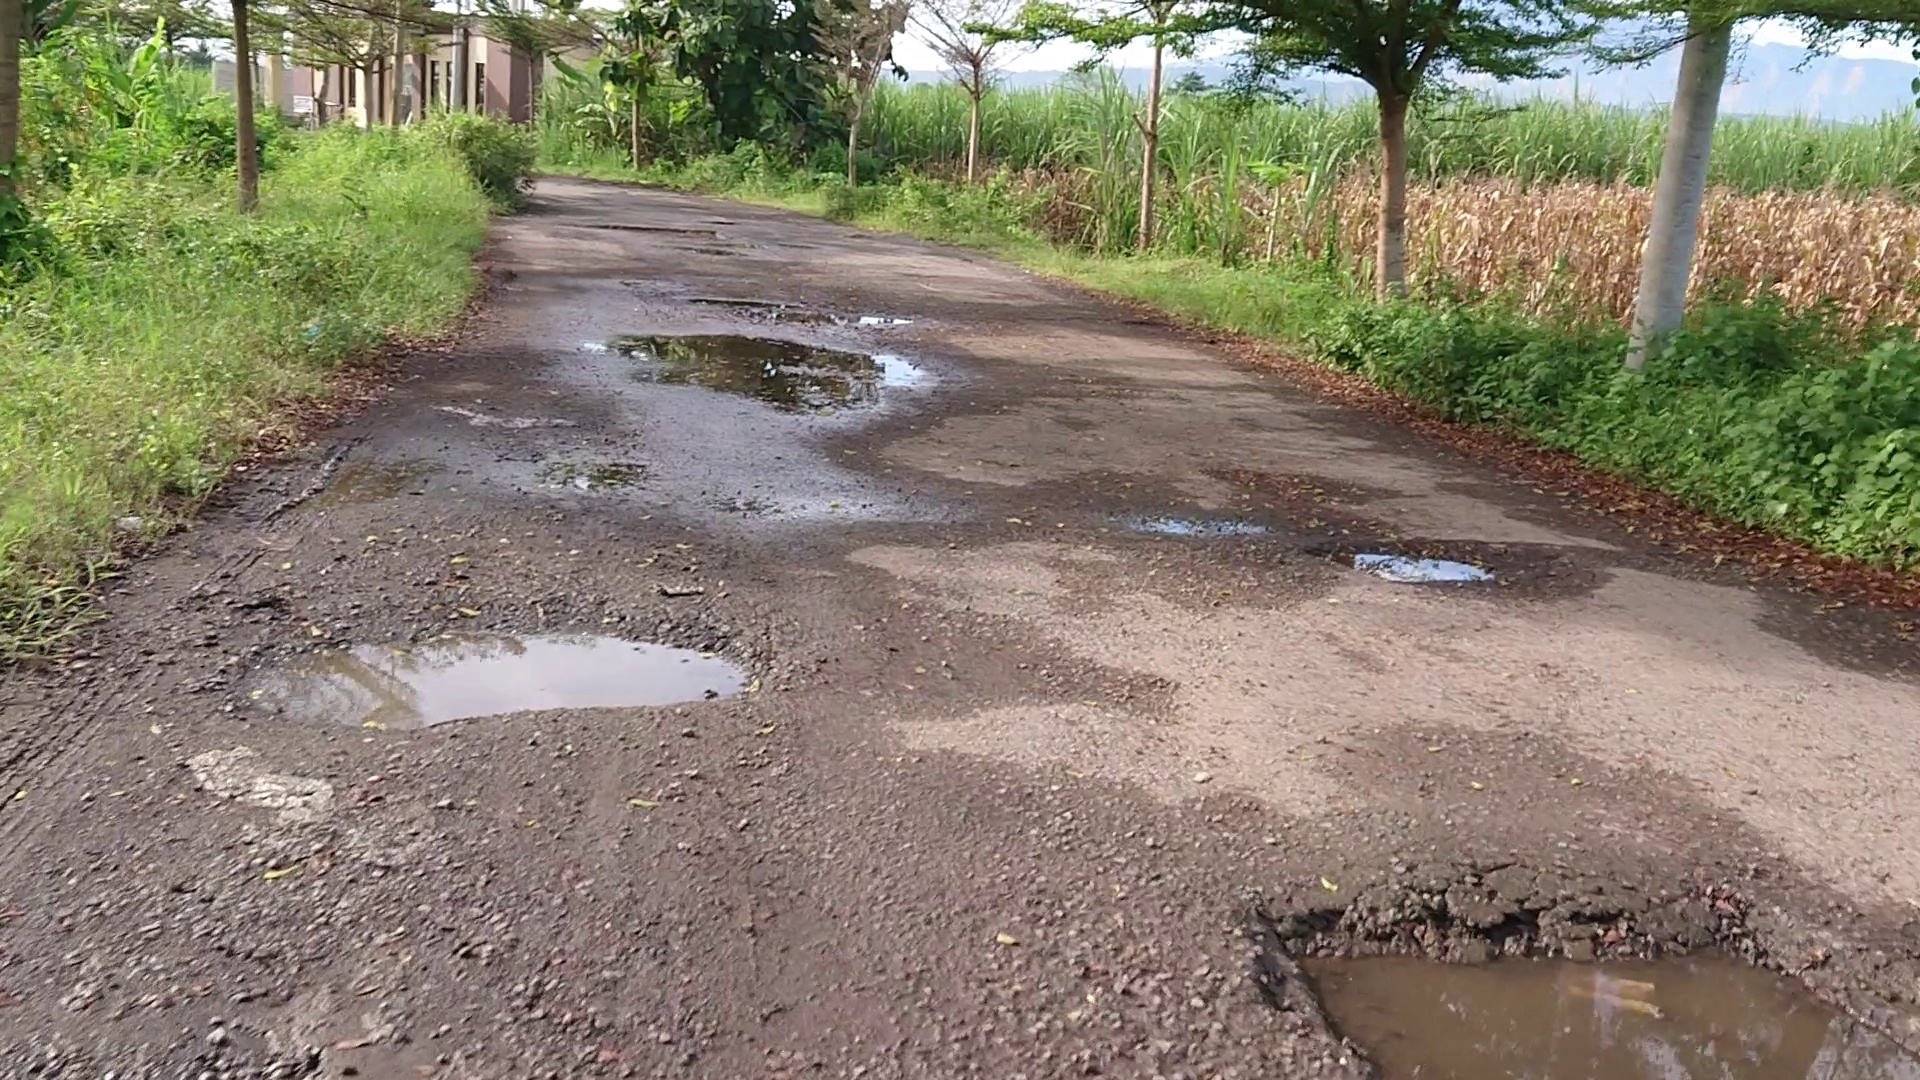Berlubang: (1305, 920, 1807, 1069), (265, 655, 717, 702), (1316, 541, 1511, 593)
